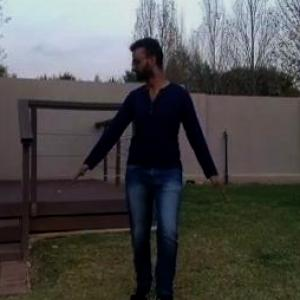land: (54, 41, 248, 299)
